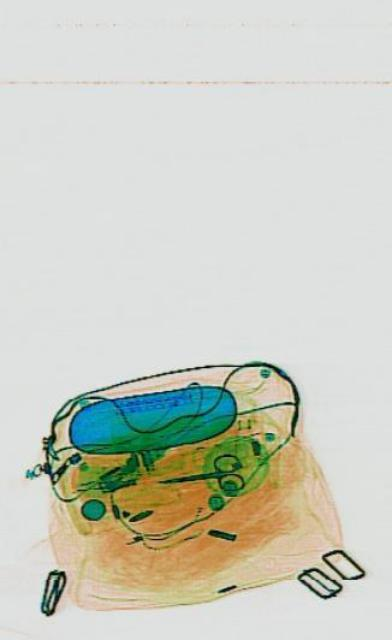Scissors: (154, 448, 242, 500)
